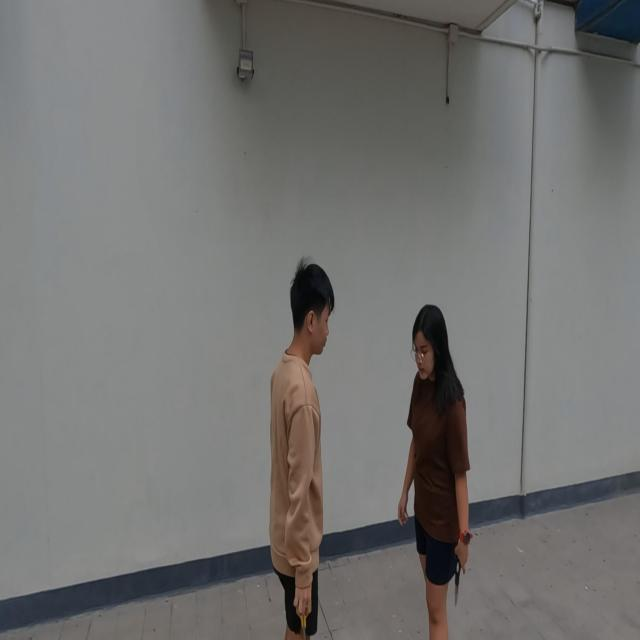scissor: (453, 543, 463, 607), (296, 602, 312, 640)
